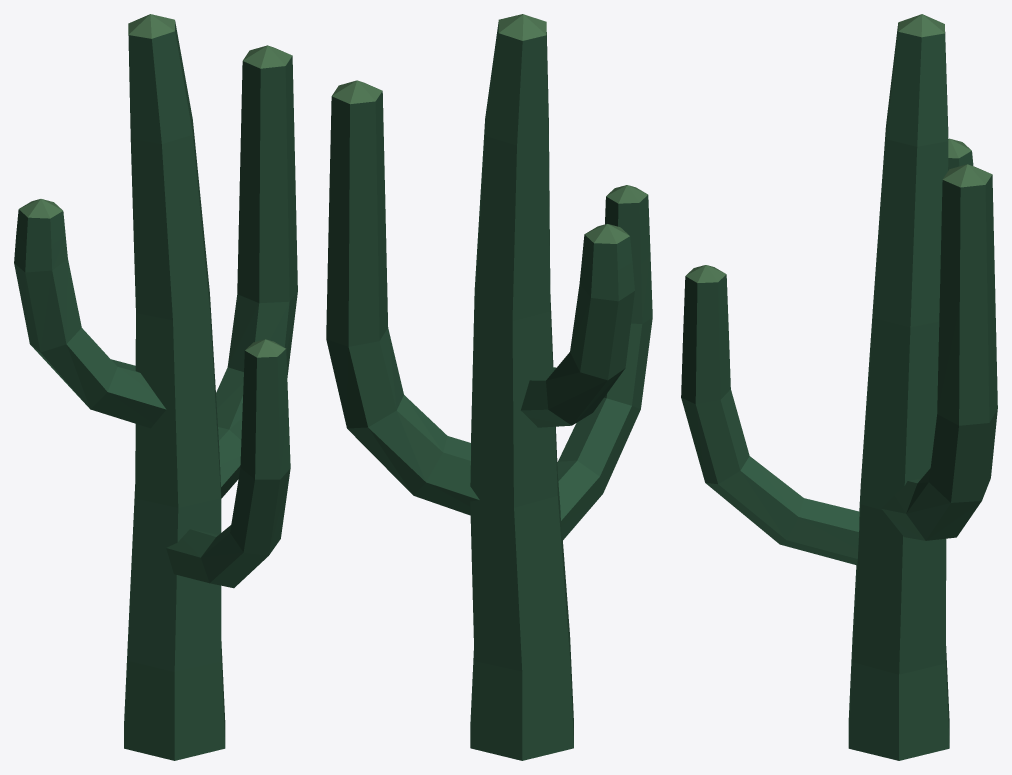
File: cactus.glb
3 views of the same model, side by side, from view 1: azimuth 30°, elevation 25°; view 2: azimuth 150°, elevation 25°; view 3: azimuth 270°, elevation 25° (orthographic). The views are drawn at different scales.
Parts seen in each view (by area): view 1: cactus; view 2: cactus; view 3: cactus.
Part boxes in pixels (left/top/right/bottom): cactus: left=14, top=14, right=297, bottom=760; cactus: left=326, top=14, right=652, bottom=760; cactus: left=681, top=14, right=997, bottom=760.
Bounding box in the file's own units: 1.45 × 3.52 × 1.41.
